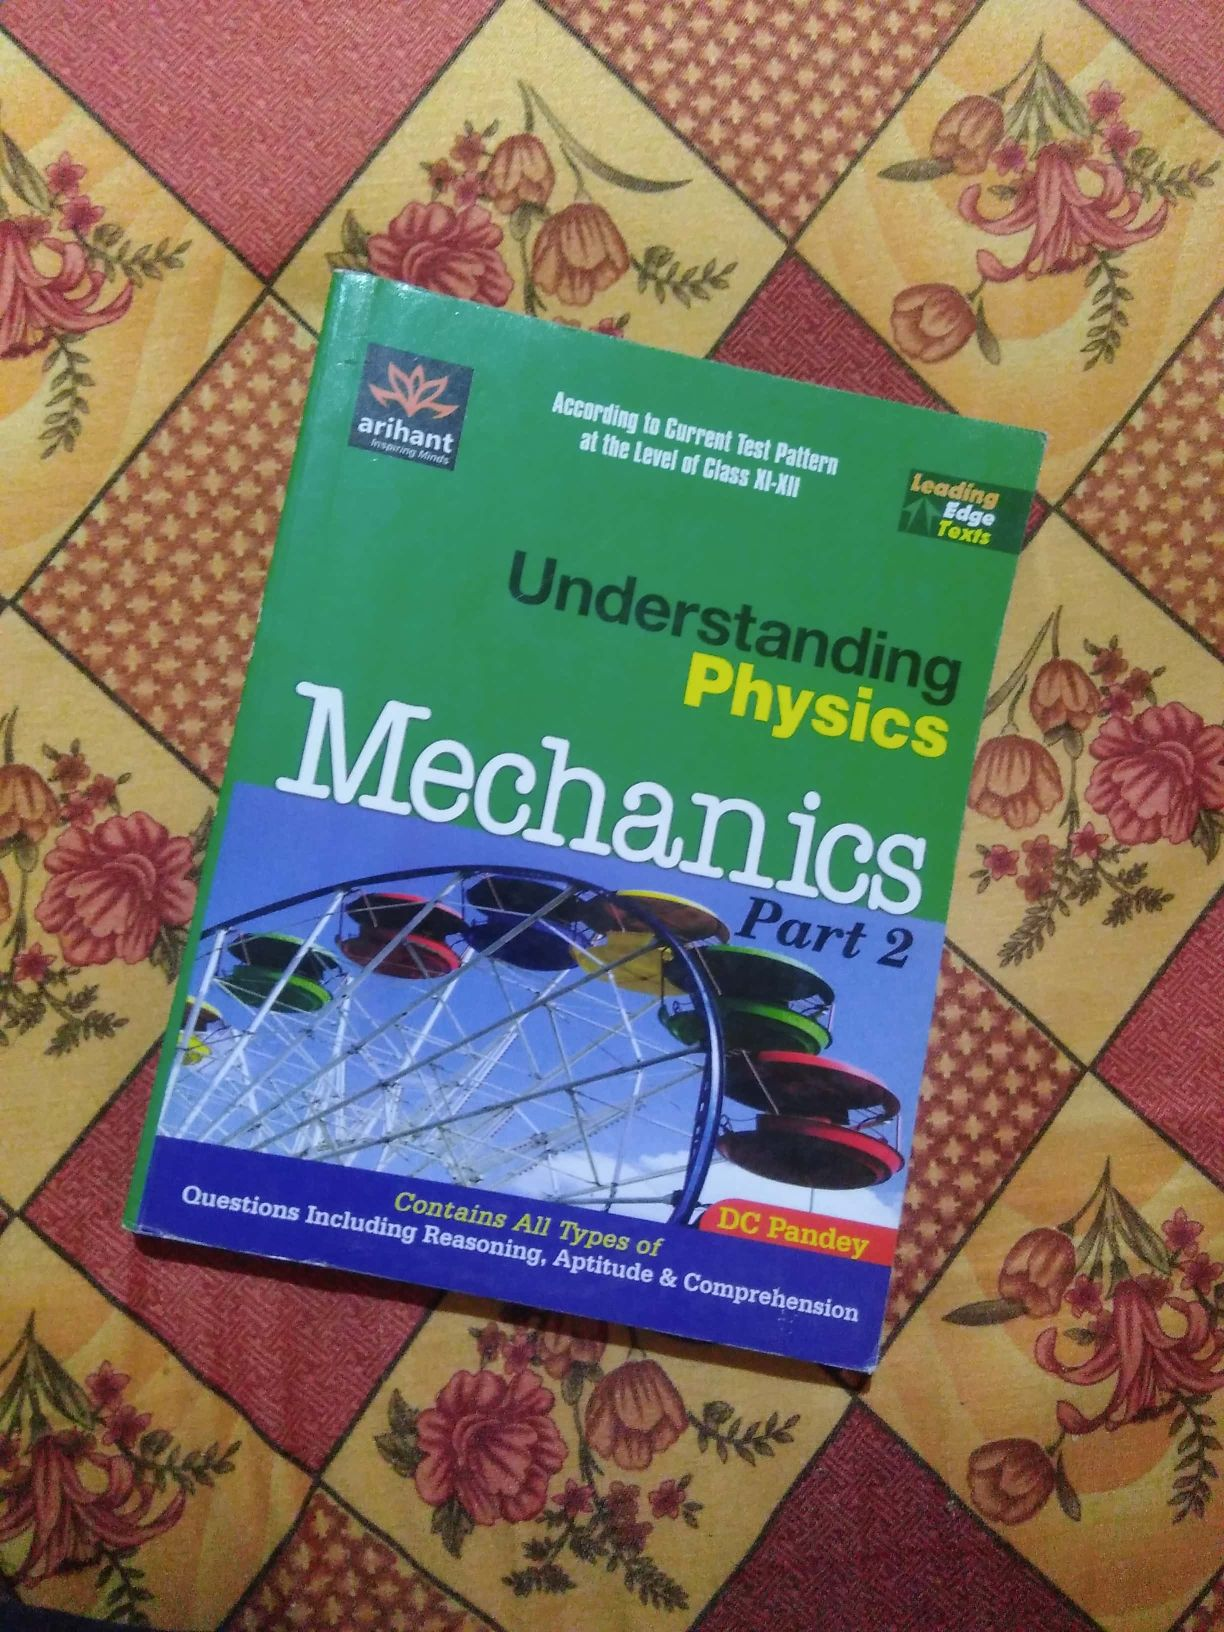mechanics: (207, 256, 1003, 1381)
